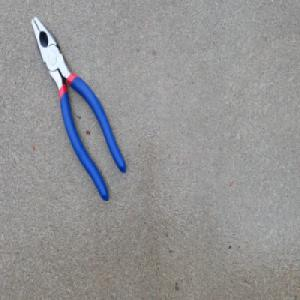Pliers: (32, 15, 127, 202)
